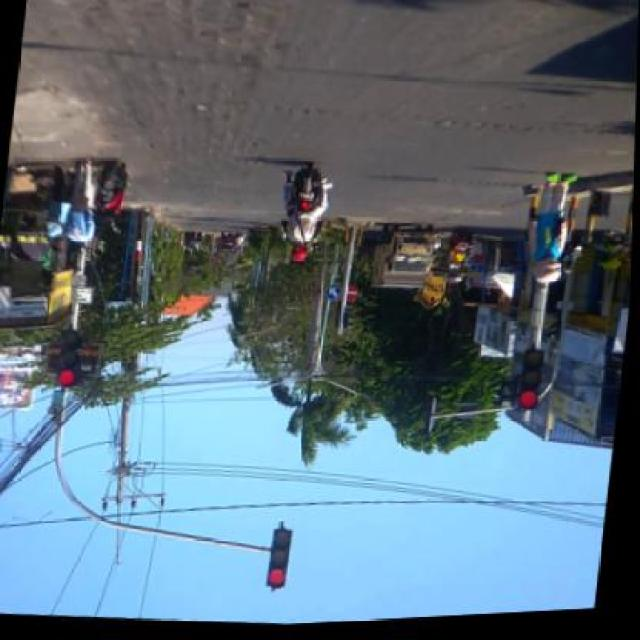red_light: (518, 353, 548, 419), (269, 528, 297, 594), (56, 330, 85, 390)
